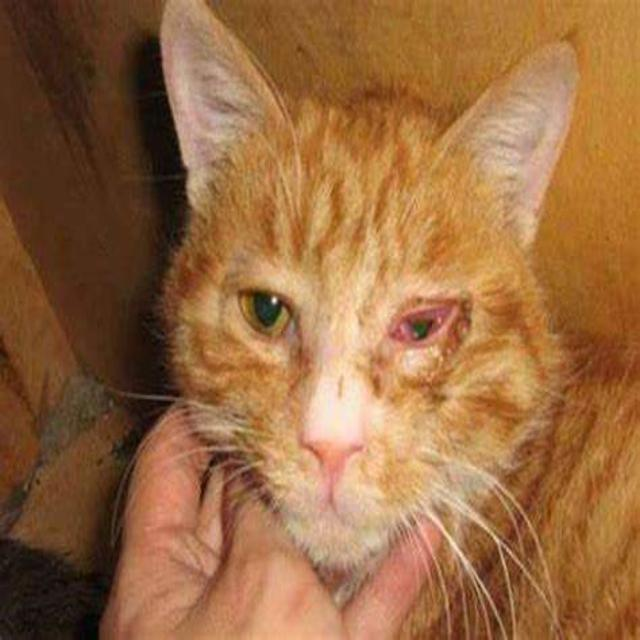eye_infection: (389, 296, 461, 353), (241, 285, 302, 342)
